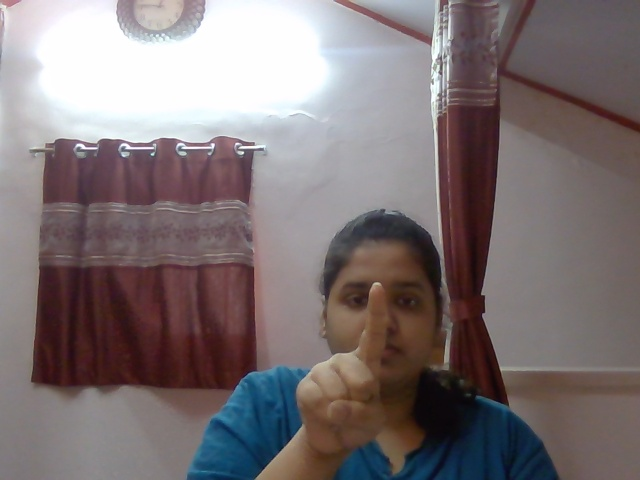z: (292, 281, 408, 462)
